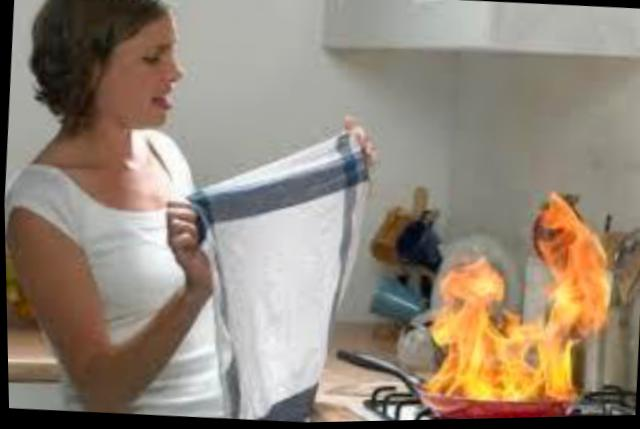fire: (408, 189, 638, 420)
